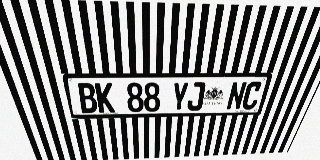8: (126, 82, 144, 112), (144, 82, 161, 112)
B: (76, 83, 98, 113)
C: (241, 81, 263, 110)
J: (187, 82, 206, 111)
K: (95, 83, 115, 113)
N: (226, 82, 247, 110)
Y: (171, 82, 189, 111)
